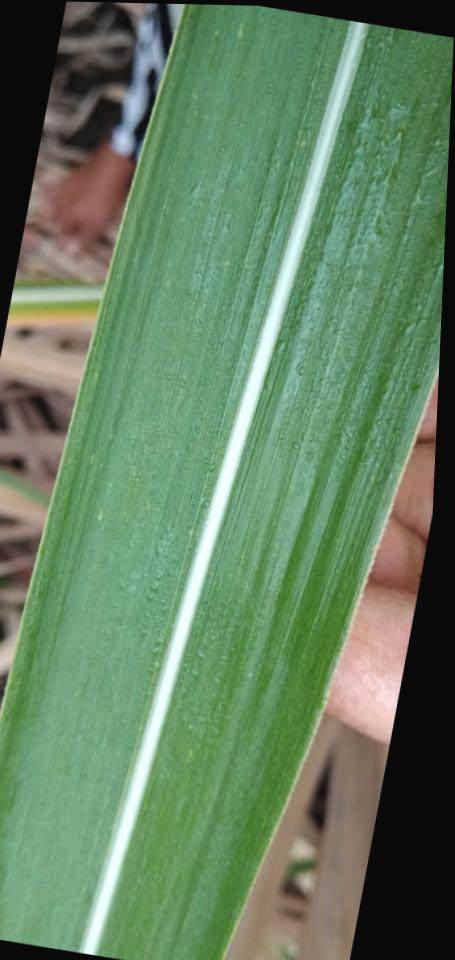Healthy: (0, 4, 454, 960)
